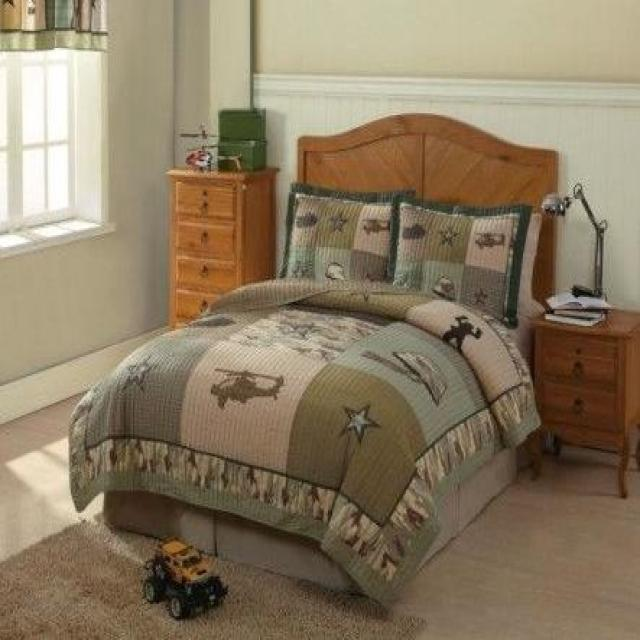bed: (67, 110, 559, 616)
